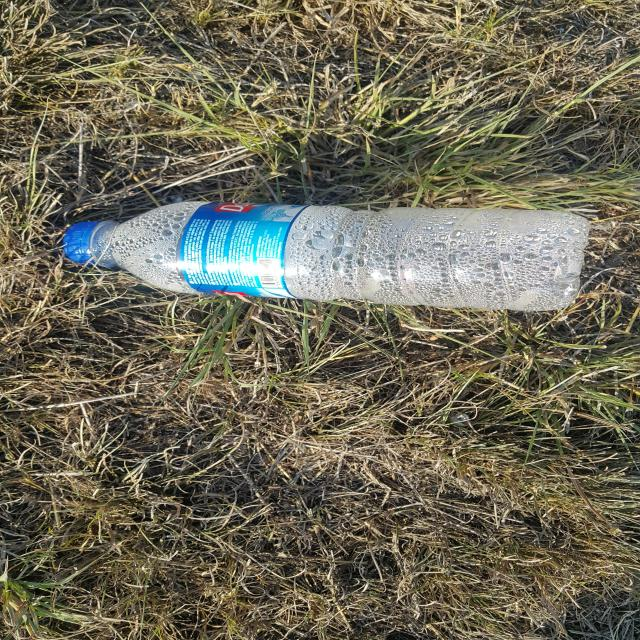litter: (358, 28, 553, 325), (393, 305, 474, 325)
